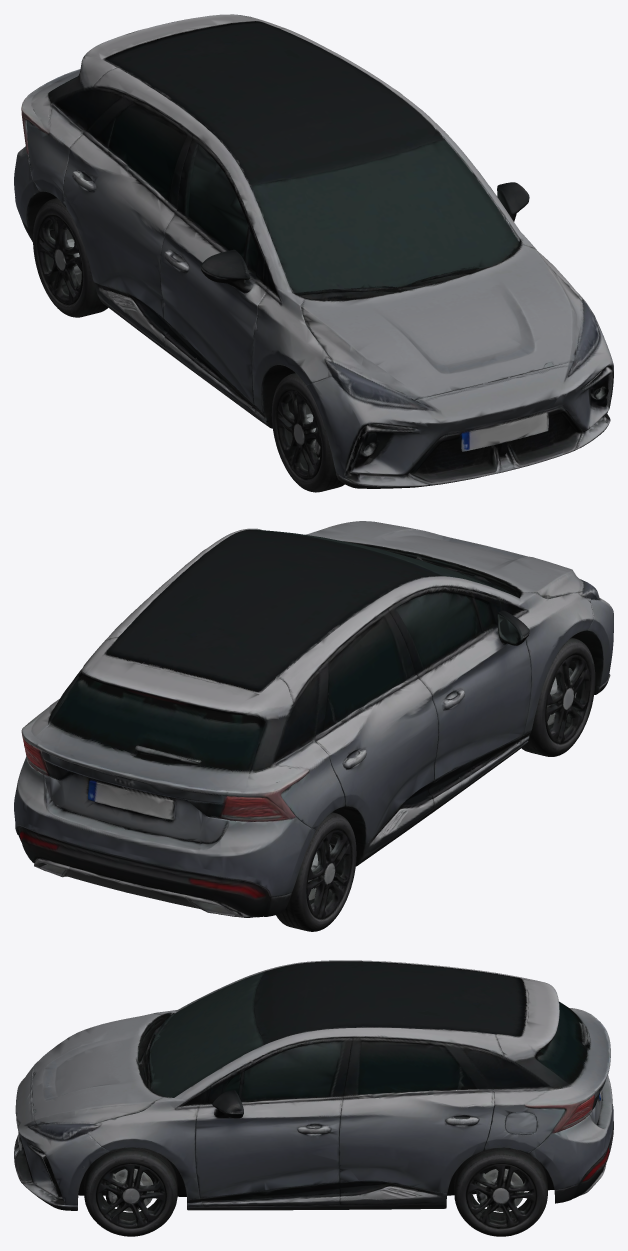
Rendered from car_sedan.glb.
3 views of the same model, one above another, from view 1: azimuth 30°, elevation 25°; view 2: azimuth 150°, elevation 25°; view 3: azimuth 270°, elevation 25° (orthographic). The views are drawn at different scales.
Parts seen in each view (by area): view 1: tripo_node_d8eab706-6e00-4dd5-990c-505bb09c3191; view 2: tripo_node_d8eab706-6e00-4dd5-990c-505bb09c3191; view 3: tripo_node_d8eab706-6e00-4dd5-990c-505bb09c3191.
Boxes of the visible parts, bbox=[...] form: tripo_node_d8eab706-6e00-4dd5-990c-505bb09c3191: bbox=[14, 14, 613, 492]; tripo_node_d8eab706-6e00-4dd5-990c-505bb09c3191: bbox=[14, 521, 613, 931]; tripo_node_d8eab706-6e00-4dd5-990c-505bb09c3191: bbox=[14, 960, 613, 1236].
Bounding box in the file's own units: 1.98 × 1.5 × 4.12.
Materials: 1 (1 with a texture image).
